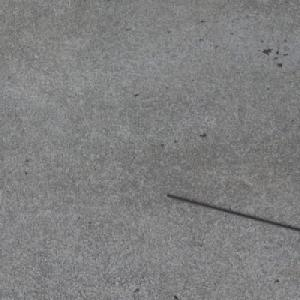LuggagePart: (165, 192, 300, 230)
